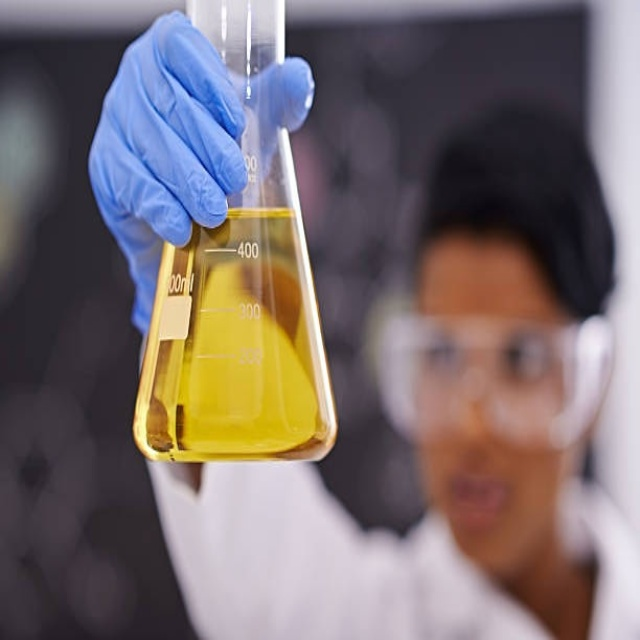Gafas: (368, 305, 617, 442)
Guantes: (88, 8, 312, 336)
